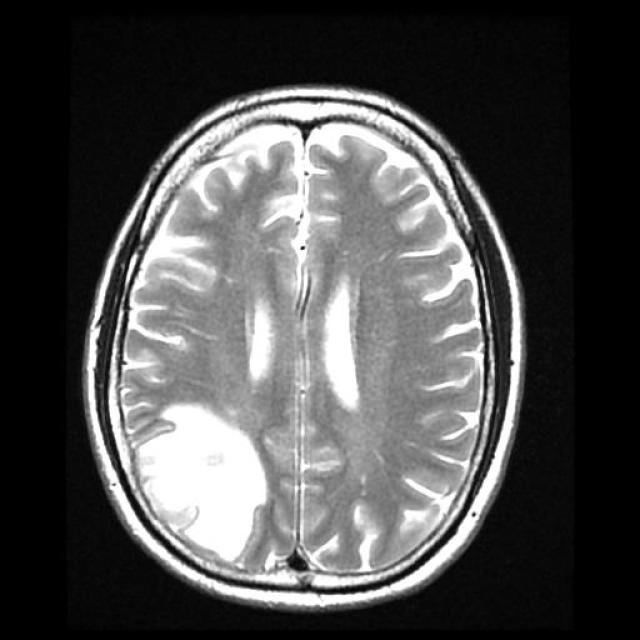Tumor-Cell: (119, 382, 259, 544)
